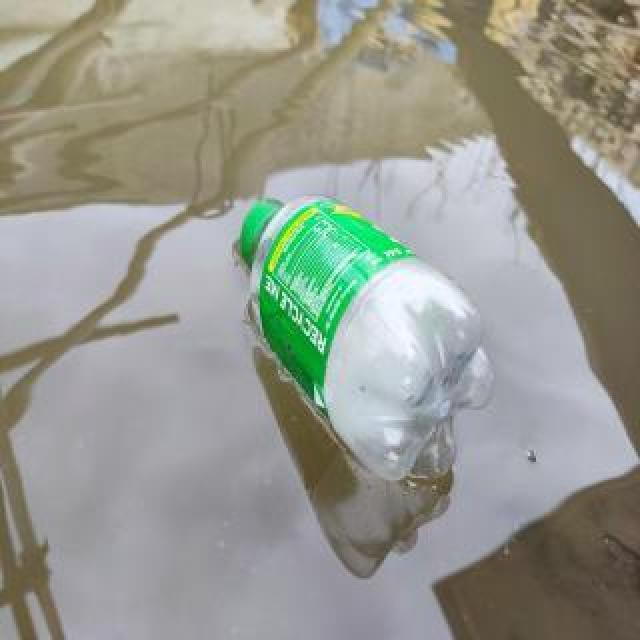bottle: (234, 188, 498, 490)
